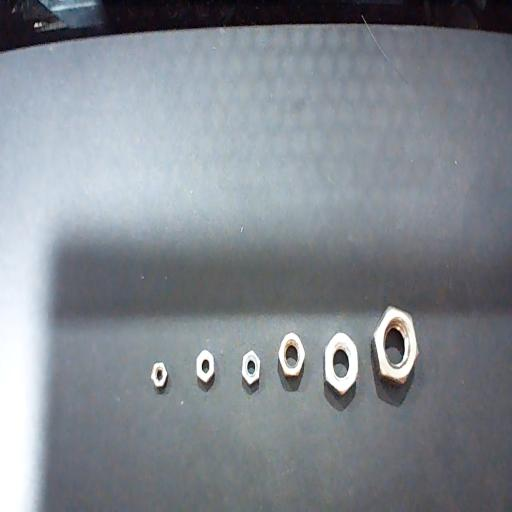nut: (370, 306, 419, 407), (323, 332, 358, 412), (278, 333, 306, 392), (241, 350, 261, 396), (196, 349, 215, 393), (150, 362, 168, 395)
